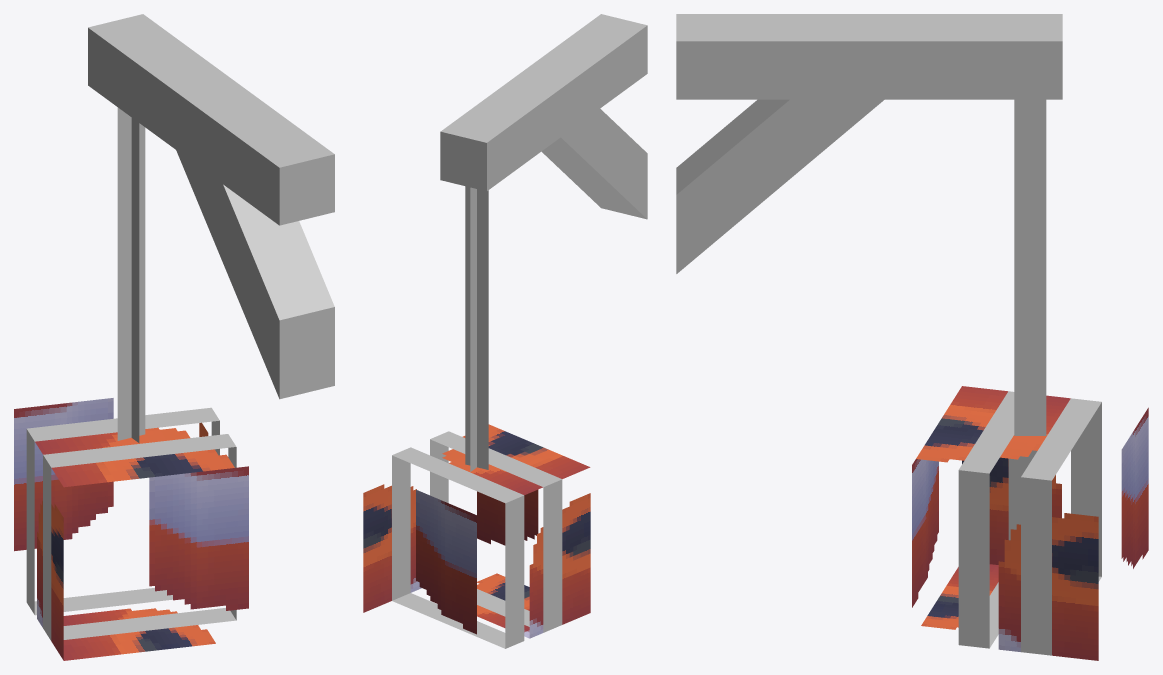
File: pulley-crate.obj
3 views of the same model, side by side, from view 1: azimuth 30°, elevation 25°; view 2: azimuth 150°, elevation 25°; view 3: azimuth 270°, elevation 25° (orthographic). The views are drawn at different scales.
Parts seen in each view (by area): view 1: pulley-crate; view 2: pulley-crate; view 3: pulley-crate.
Boxes of the visible parts, left/top/right/bottom form: pulley-crate: left=14, top=14, right=334, bottom=660; pulley-crate: left=363, top=14, right=647, bottom=648; pulley-crate: left=676, top=14, right=1148, bottom=660.
Size of the model in its own units: 0.3674 by 1 by 0.7337.
